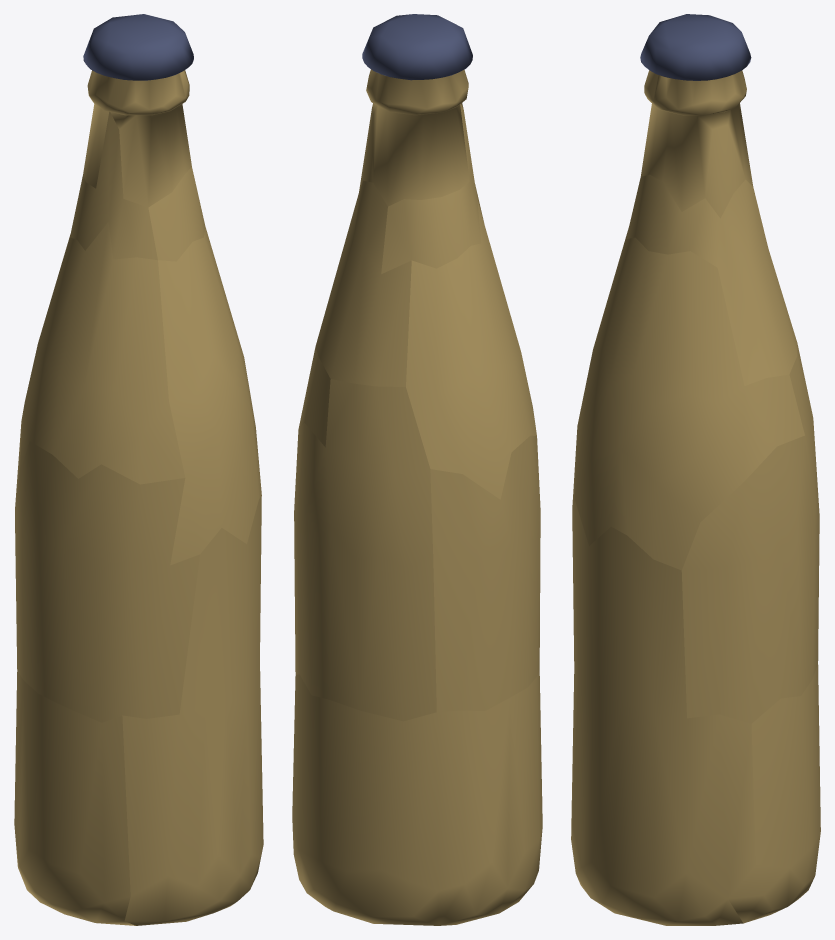
Rendered from a-bottle-of-beer-broken2.fbx.
3 renders of one model, left to right at view 1: azimuth 30°, elevation 25°; view 2: azimuth 150°, elevation 25°; view 3: azimuth 270°, elevation 25°, orthographic.
Parts seen in each view (by area): view 1: MainGlass.007, MainGlass.008, MainGlass.005, MainGlass, MainGlass.004, MainGlass.001, Top, MainGlass.002, MainGlass.003; view 2: MainGlass, MainGlass.006, MainGlass.007, MainGlass.005, MainGlass.003, MainGlass.001, MainGlass.002, Top, MainGlass.004; view 3: MainGlass.008, MainGlass.004, MainGlass.006, MainGlass.003, MainGlass, MainGlass.001, Top.
Boxes of the visible parts, bbox=[...] form: MainGlass.007: bbox=[15, 424, 199, 722]; MainGlass.008: bbox=[122, 495, 263, 925]; MainGlass.005: bbox=[20, 222, 185, 484]; MainGlass: bbox=[14, 671, 135, 925]; MainGlass.004: bbox=[158, 227, 261, 565]; MainGlass.001: bbox=[83, 70, 191, 207]; Top: bbox=[83, 14, 193, 80]; MainGlass.002: bbox=[70, 111, 157, 259]; MainGlass.003: bbox=[148, 167, 205, 261]; MainGlass: bbox=[292, 670, 542, 925]; MainGlass.006: bbox=[294, 379, 436, 721]; MainGlass.007: bbox=[430, 435, 540, 712]; MainGlass.005: bbox=[406, 200, 536, 499]; MainGlass.003: bbox=[315, 180, 411, 386]; MainGlass.001: bbox=[359, 69, 469, 206]; MainGlass.002: bbox=[381, 104, 483, 273]; Top: bbox=[362, 14, 472, 80]; MainGlass.004: bbox=[298, 347, 330, 447]; MainGlass.008: bbox=[571, 501, 755, 925]; MainGlass.004: bbox=[572, 227, 804, 570]; MainGlass.006: bbox=[681, 343, 819, 723]; MainGlass.003: bbox=[626, 174, 797, 385]; MainGlass: bbox=[728, 664, 820, 923]; MainGlass.001: bbox=[641, 70, 753, 218]; Top: bbox=[640, 14, 751, 80].
Size of the model in its own units: 106 by 399 by 106.
